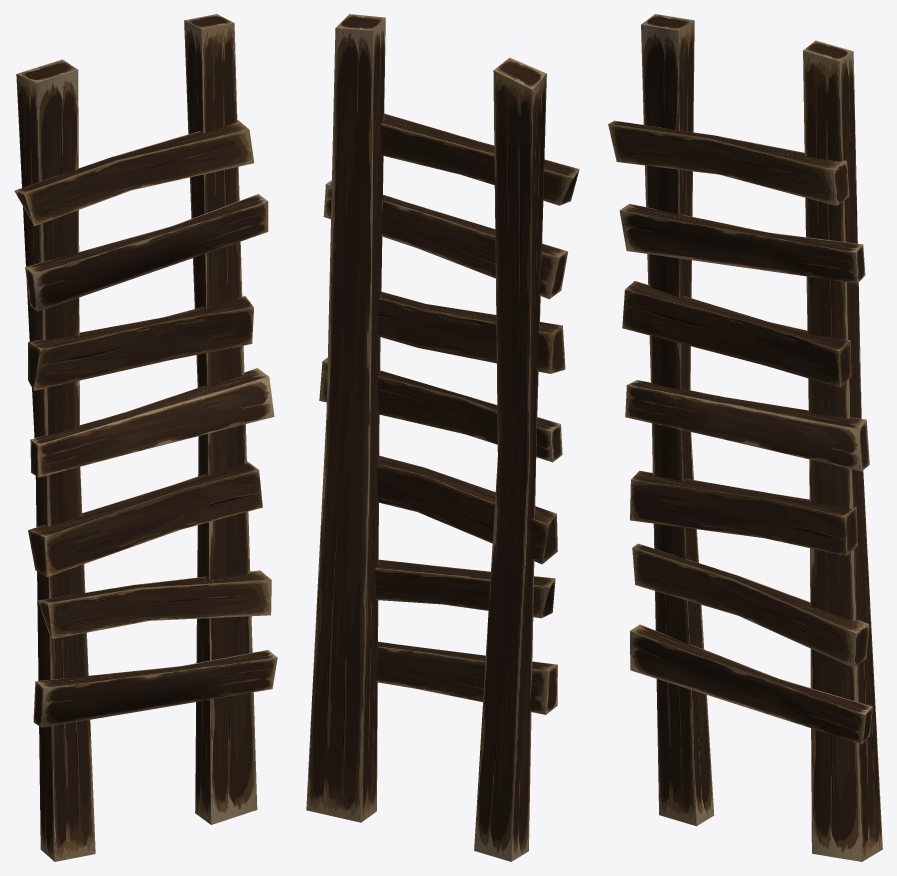
File: SM_PROP_ladder.fbx
3 renders of one model, left to right at view 1: azimuth 30°, elevation 25°; view 2: azimuth 150°, elevation 25°; view 3: azimuth 330°, elevation 25°, orthographic.
Parts seen in each view (by area): view 1: SM_PROP_ladder; view 2: SM_PROP_ladder; view 3: SM_PROP_ladder.
Part boxes in pixels (x1=…): SM_PROP_ladder: x1=14, y1=14, x2=277, y2=861; SM_PROP_ladder: x1=306, y1=14, x2=579, y2=861; SM_PROP_ladder: x1=608, y1=14, x2=882, y2=861.
Size of the model in its own units: 109 by 325 by 21.02.
